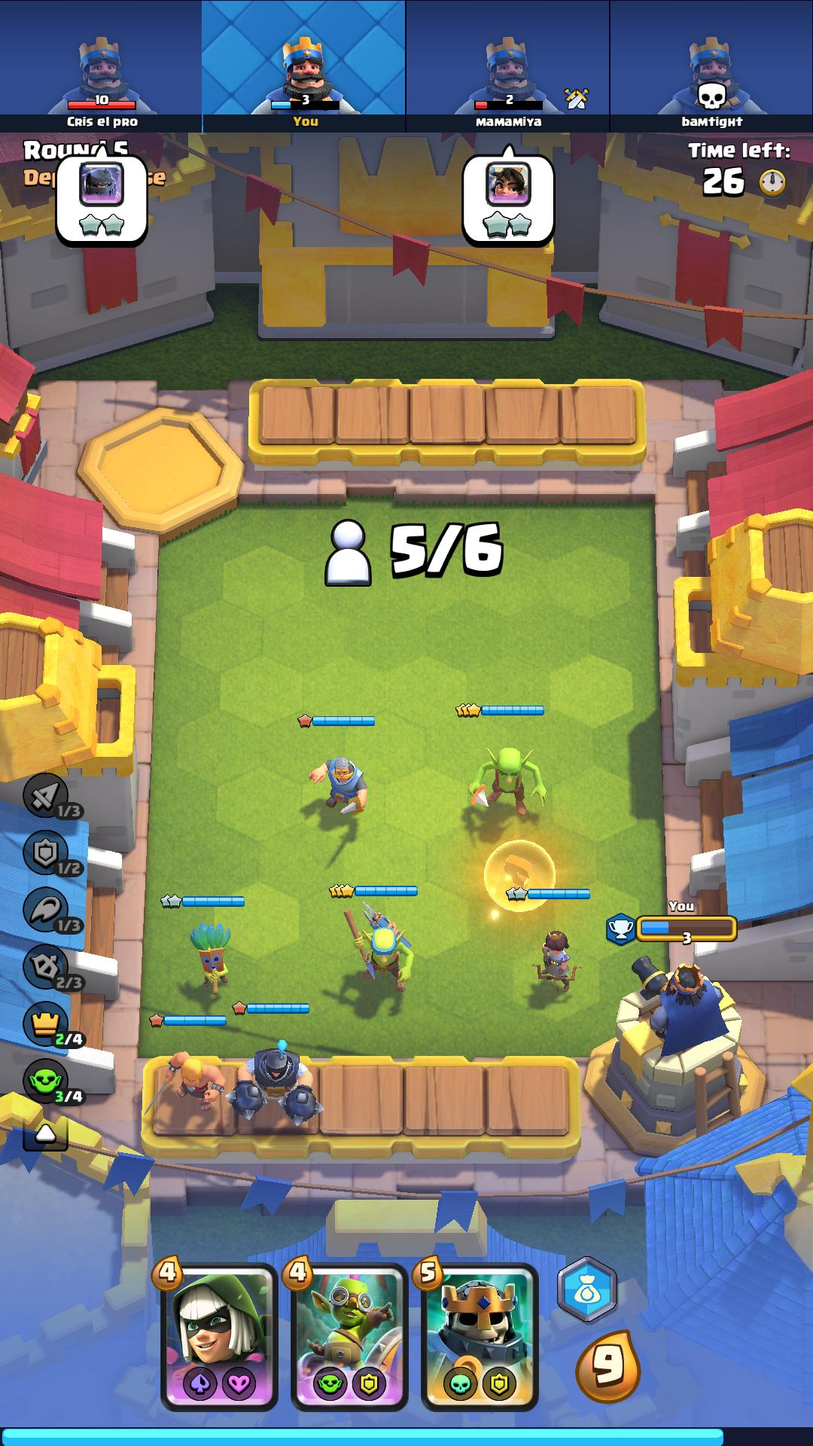barbarian: (145, 1045, 225, 1118)
dart: (184, 917, 235, 995)
goblin: (465, 743, 555, 820)
hand-bandit: (161, 1266, 273, 1405)
hand-king: (420, 1264, 537, 1409)
hand-machine: (296, 1266, 407, 1410)
knight: (294, 753, 379, 822)
mega: (221, 1035, 332, 1128)
orb: (476, 837, 556, 917)
princess: (529, 924, 580, 998)
spear: (340, 900, 426, 999)
